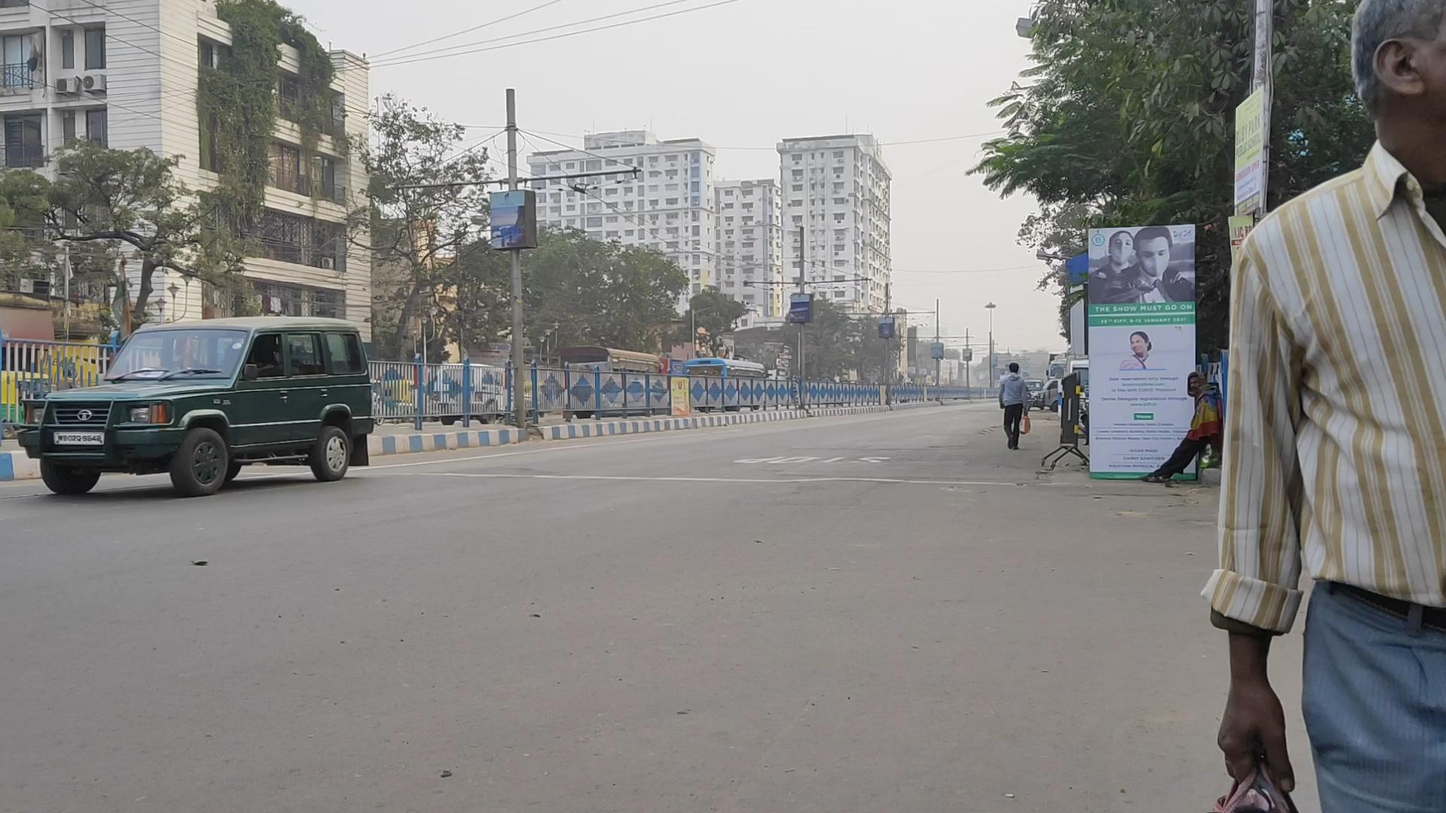car: (17, 315, 372, 497)
